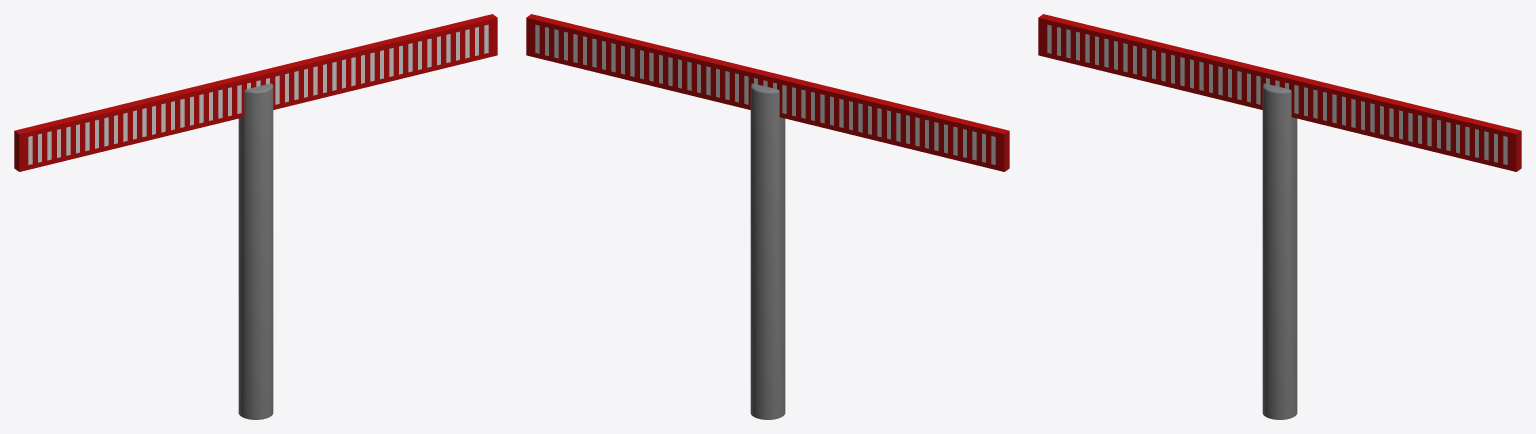
The model's file is TObstacle.fbx.
3 views of the same model, side by side, from view 1: azimuth 30°, elevation 25°; view 2: azimuth 150°, elevation 25°; view 3: azimuth 330°, elevation 25° (orthographic).
Visible parts, largest first — view 1: Cube.002, Circle; view 2: Cube.002, Circle; view 3: Cube.002, Circle.
Boxes of the visible parts, bbox=[...] form: Cube.002: bbox=[14, 14, 497, 171]; Circle: bbox=[238, 83, 273, 419]; Cube.002: bbox=[526, 14, 1009, 171]; Circle: bbox=[750, 83, 785, 419]; Cube.002: bbox=[1038, 14, 1521, 171]; Circle: bbox=[1262, 83, 1297, 419].
Bounding box in the file's own units: 126 × 85.52 × 7.99.
